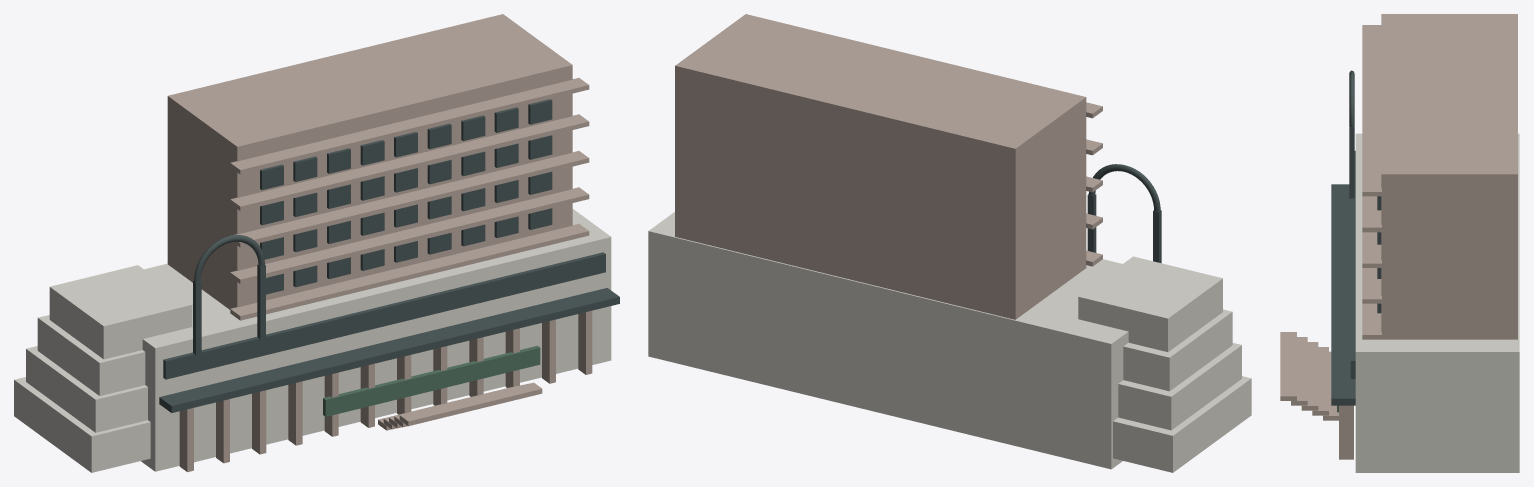
Rendered from tanglin-shopping-centre.glb.
3 views of the same model, side by side, from view 1: azimuth 30°, elevation 25°; view 2: azimuth 150°, elevation 25°; view 3: azimuth 270°, elevation 25° (orthographic). The views are drawn at different scales.
Parts seen in each view (by area): view 1: office-slab/form, retail-podium/form, clerestory-band/form, stepped-annex/annex-tier-3, ground-arcade/arcade-soffit, stepped-annex/annex-tier-0, horizontal-ledges/ledge-4, horizontal-ledges/ledge-3, horizontal-ledges/ledge-0, horizontal-ledges/ledge-1, horizontal-ledges/ledge-2, stepped-annex/annex-tier-1 (+14 smaller); view 2: office-slab/form, retail-podium/form, stepped-annex/annex-tier-3, stepped-annex/annex-tier-0, stepped-annex/annex-tier-1, stepped-annex/annex-tier-2, arched-feature-window/feature-window-curve; view 3: office-slab/form, retail-podium/form, ground-arcade/arcade-soffit, horizontal-ledges/ledge-4, clerestory-band/form, entrance-stairs/entry-step-4, entrance-stairs/entry-step-2, ground-arcade/arcade-pier-12, entrance-stairs/entry-step-1, entrance-stairs/entry-step-3, horizontal-ledges/ledge-0, horizontal-ledges/ledge-3 (+5 smaller).
Boxes of the visible parts, bbox=[...] form: office-slab/form: bbox=[167, 14, 572, 309]; retail-podium/form: bbox=[141, 209, 611, 471]; clerestory-band/form: bbox=[163, 252, 605, 379]; stepped-annex/annex-tier-3: bbox=[49, 265, 192, 359]; ground-arcade/arcade-soffit: bbox=[159, 288, 619, 412]; stepped-annex/annex-tier-0: bbox=[14, 377, 150, 472]; horizontal-ledges/ledge-4: bbox=[230, 78, 589, 174]; horizontal-ledges/ledge-3: bbox=[230, 114, 589, 210]; horizontal-ledges/ledge-0: bbox=[230, 224, 589, 320]; horizontal-ledges/ledge-1: bbox=[230, 187, 589, 283]; horizontal-ledges/ledge-2: bbox=[233, 151, 589, 247]; stepped-annex/annex-tier-1: bbox=[26, 346, 147, 432]; office-slab/form: bbox=[675, 14, 1086, 319]; retail-podium/form: bbox=[648, 212, 1128, 469]; stepped-annex/annex-tier-3: bbox=[1078, 256, 1222, 351]; stepped-annex/annex-tier-0: bbox=[1113, 376, 1251, 472]; stepped-annex/annex-tier-1: bbox=[1118, 343, 1241, 430]; stepped-annex/annex-tier-2: bbox=[1123, 309, 1232, 391]; arched-feature-window/feature-window-curve: bbox=[1088, 164, 1160, 211]; office-slab/form: bbox=[1381, 14, 1517, 339]; retail-podium/form: bbox=[1355, 133, 1519, 472]; ground-arcade/arcade-soffit: bbox=[1331, 184, 1355, 405]; horizontal-ledges/ledge-4: bbox=[1362, 25, 1381, 196]; clerestory-band/form: bbox=[1350, 150, 1355, 378]; entrance-stairs/entry-step-4: bbox=[1280, 332, 1296, 400]; entrance-stairs/entry-step-2: bbox=[1301, 342, 1318, 410]; ground-arcade/arcade-pier-12: bbox=[1339, 405, 1353, 459]; entrance-stairs/entry-step-1: bbox=[1312, 347, 1328, 415]; entrance-stairs/entry-step-3: bbox=[1291, 337, 1307, 405]; horizontal-ledges/ledge-0: bbox=[1362, 303, 1381, 339]; horizontal-ledges/ledge-3: bbox=[1362, 196, 1381, 232].
Bounding box in the file's own units: 19.2 × 10.4 × 7.87.
